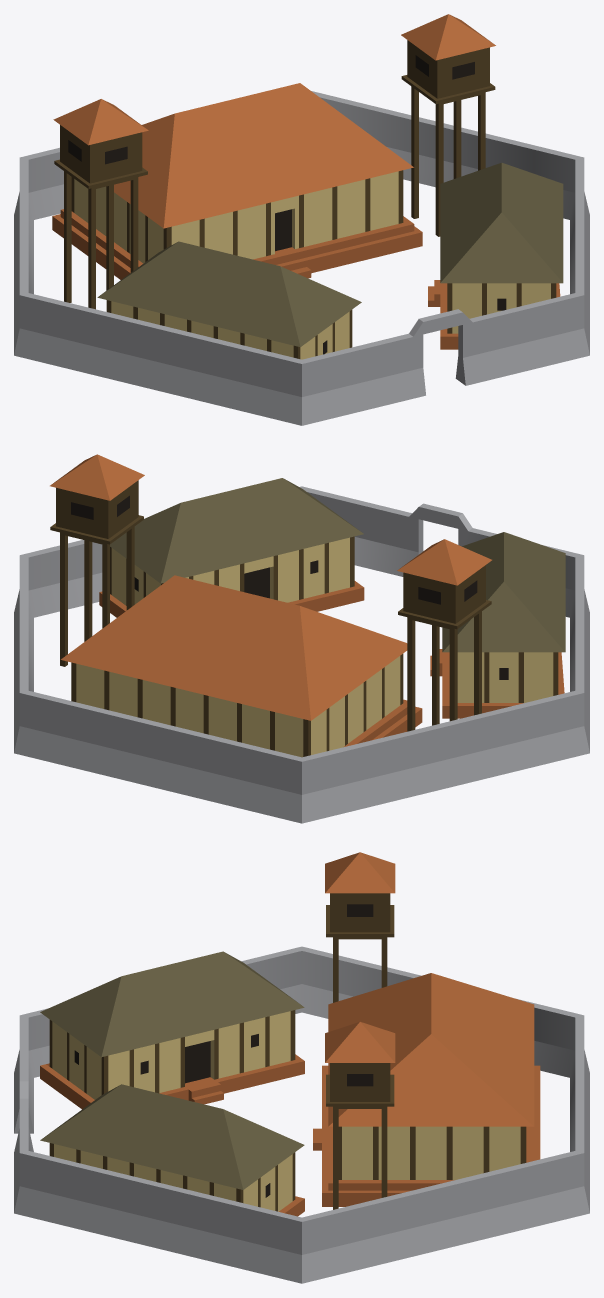
File: MJ_Building_Barracks.fbx
The picture shows the model from 3 angles, top to bottom: view 1: azimuth 30°, elevation 25°; view 2: azimuth 150°, elevation 25°; view 3: azimuth 270°, elevation 25°; orthographic projection.
Visible parts, largest first — view 1: Model; view 2: Model; view 3: Model.
Boxes of the visible parts, left/top/right/bottom form: Model: left=14, top=14, right=589, bottom=425; Model: left=14, top=454, right=589, bottom=823; Model: left=14, top=852, right=589, bottom=1283.
Size of the model in its own units: 5.82 by 2 by 5.04.
